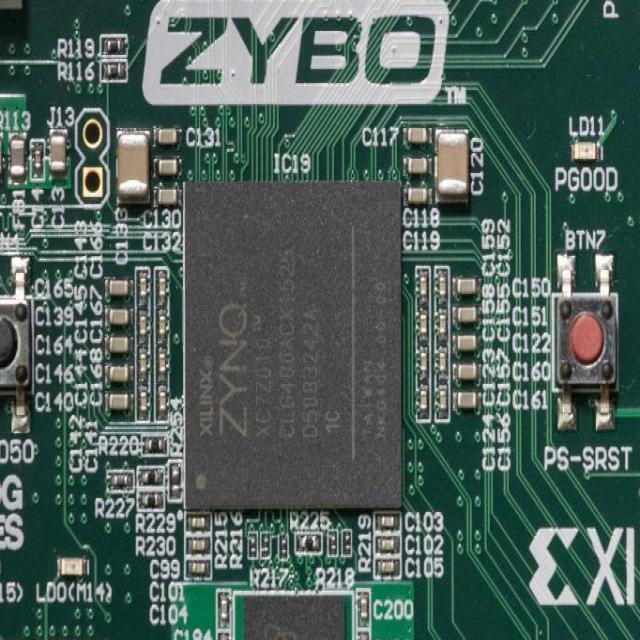IC: (182, 180, 403, 509), (232, 591, 354, 640)
LED: (56, 557, 91, 578), (568, 142, 602, 162), (0, 557, 1, 581)
button: (552, 253, 616, 428), (0, 255, 33, 433)
capacitor: (434, 127, 468, 204), (116, 130, 150, 201), (48, 128, 68, 179), (185, 556, 212, 581), (29, 138, 45, 178), (152, 125, 182, 146), (103, 277, 133, 298), (104, 391, 134, 412), (354, 588, 370, 627), (216, 588, 232, 627), (374, 533, 401, 556), (415, 264, 430, 304), (416, 343, 431, 383), (452, 390, 482, 410), (402, 186, 430, 207), (105, 334, 134, 354), (105, 364, 134, 384), (185, 535, 211, 557), (452, 276, 482, 295), (452, 305, 482, 324), (404, 125, 432, 145), (155, 267, 169, 307), (105, 306, 133, 326), (372, 556, 400, 576), (153, 156, 182, 175), (434, 304, 448, 343), (152, 187, 182, 205), (434, 267, 448, 305), (155, 344, 169, 382), (154, 382, 168, 420), (452, 363, 482, 380), (136, 383, 149, 422), (402, 155, 430, 173), (452, 334, 480, 352), (434, 344, 448, 380), (372, 512, 400, 530), (185, 512, 210, 532), (136, 267, 149, 305), (416, 382, 429, 420), (416, 305, 429, 342), (156, 307, 168, 346), (436, 381, 448, 419), (138, 343, 149, 383), (138, 308, 148, 343), (216, 627, 231, 640), (0, 131, 3, 183), (356, 628, 369, 640)
connector: (74, 106, 110, 208)
ferrite bead: (8, 132, 27, 184)
resistor: (99, 34, 128, 58), (140, 432, 168, 456), (135, 466, 164, 488), (100, 59, 130, 80), (294, 532, 322, 554), (107, 468, 134, 489), (136, 490, 164, 510), (169, 458, 182, 499), (259, 529, 270, 558), (341, 529, 353, 555), (327, 529, 337, 554), (278, 533, 287, 560), (249, 532, 257, 557)
